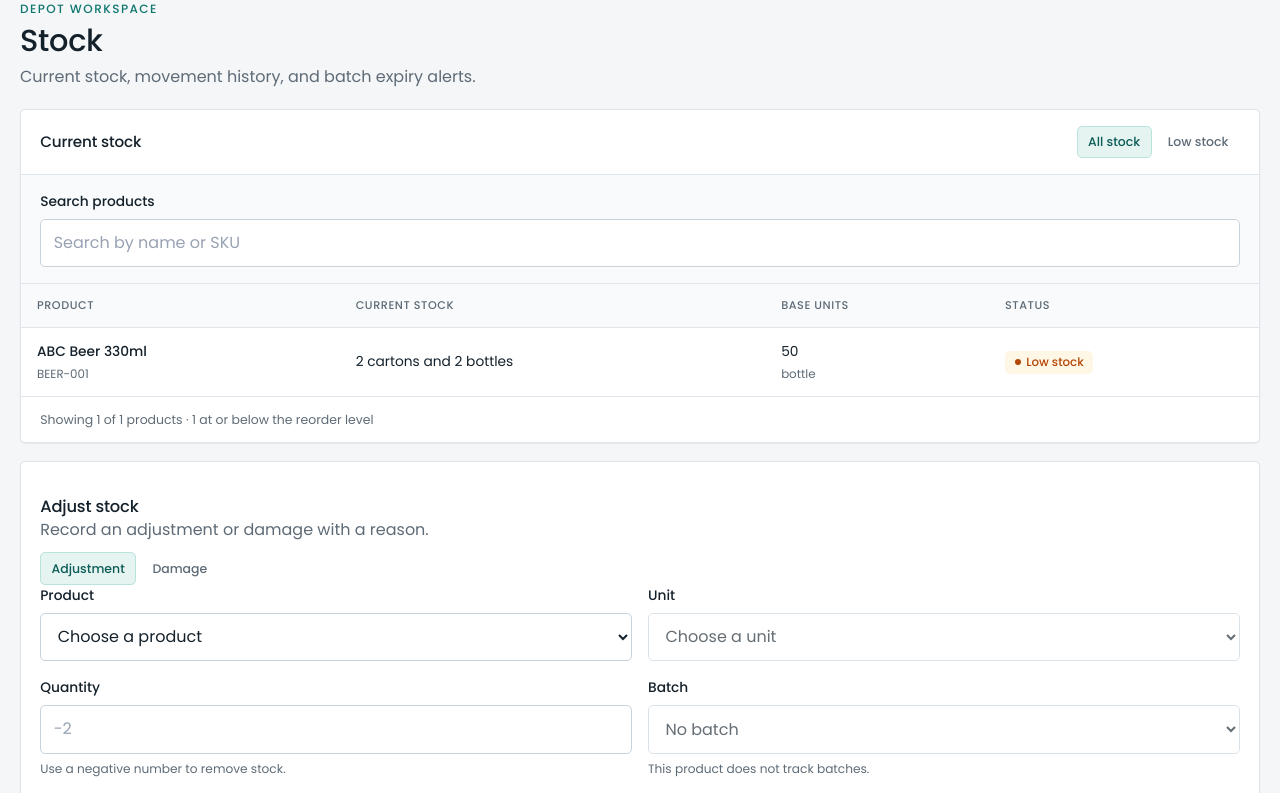
it: StockManager role-based screens › shows the API message when a movement would make stock negative
Select "ABC Beer 330ml (BEER-001)" in the dropdown labelled "Product" at coordinates (336, 637), box [40,612,632,661]
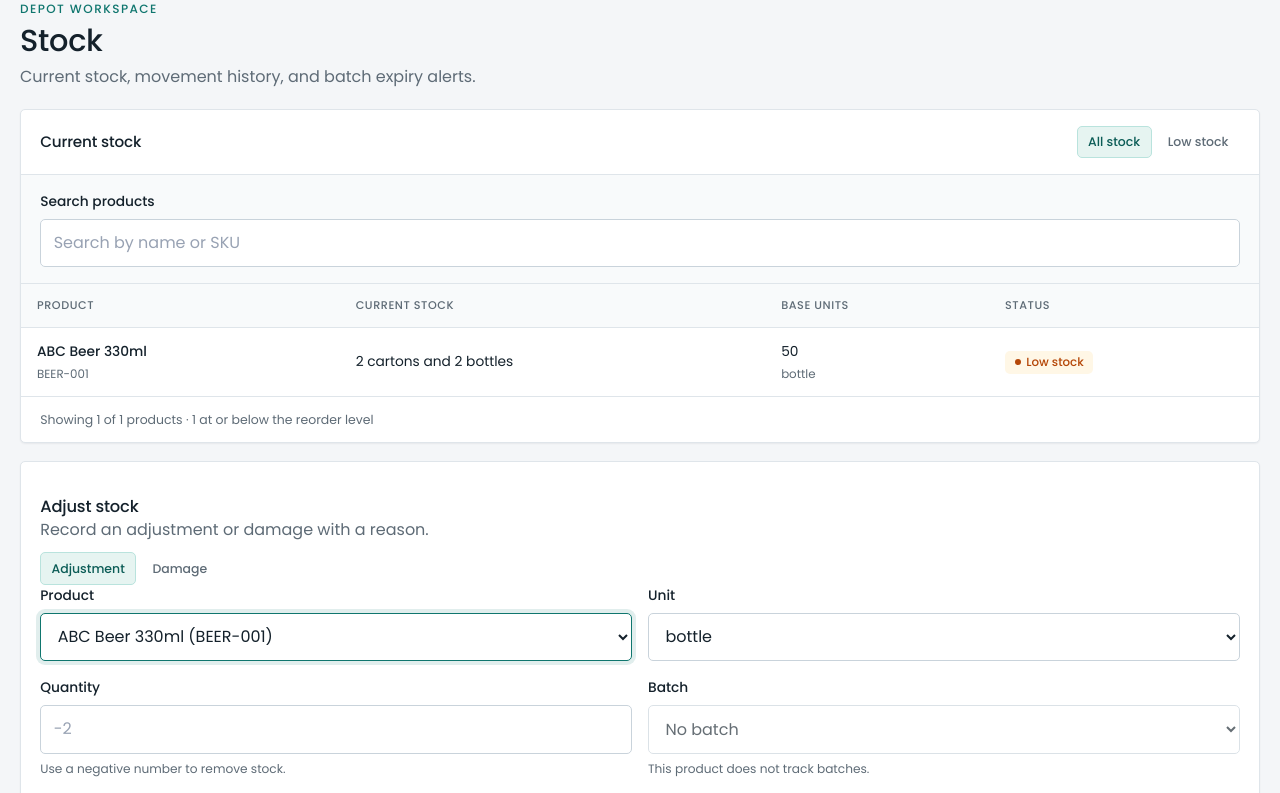
Select "bottle" in the dropdown labelled "Unit" at coordinates (944, 637), box [648,612,1240,661]
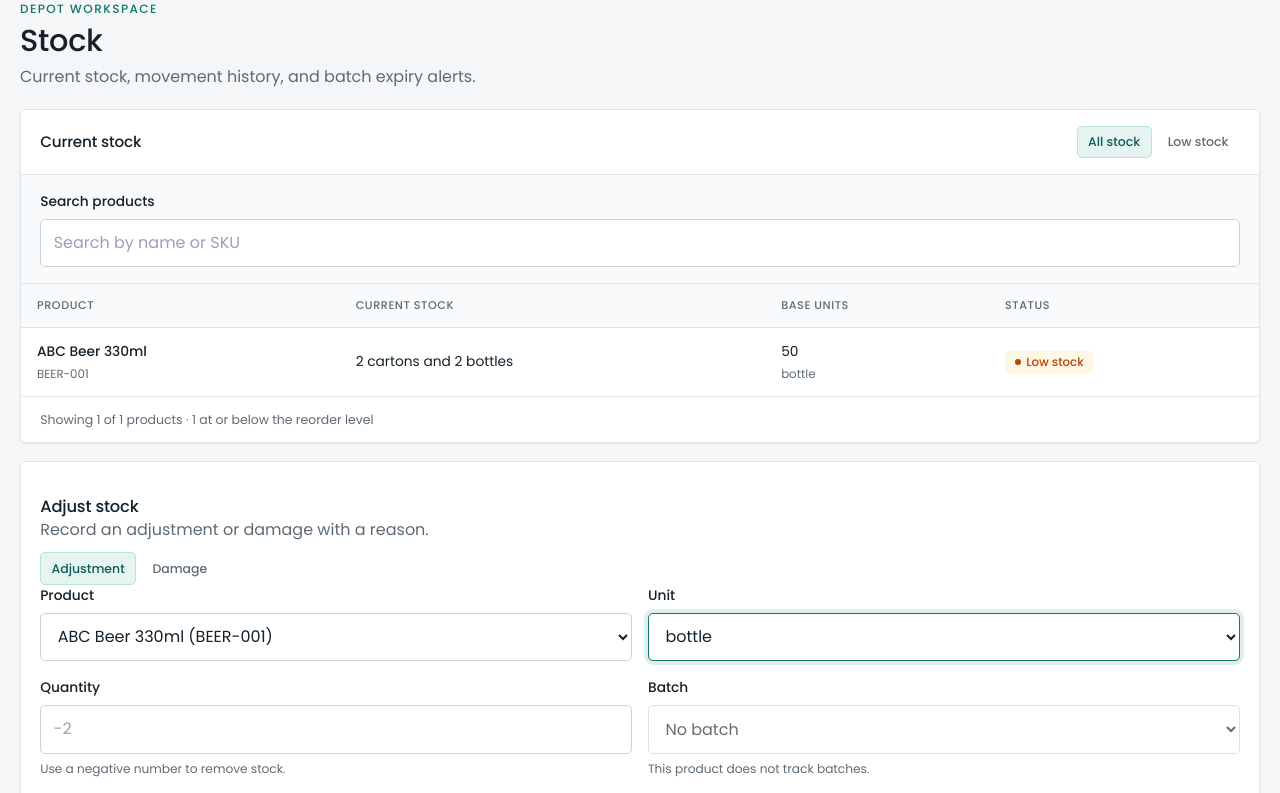
Type "-20" into the field labelled "Quantity" at coordinates (336, 729), box [40,705,632,754]
(page scrolled)
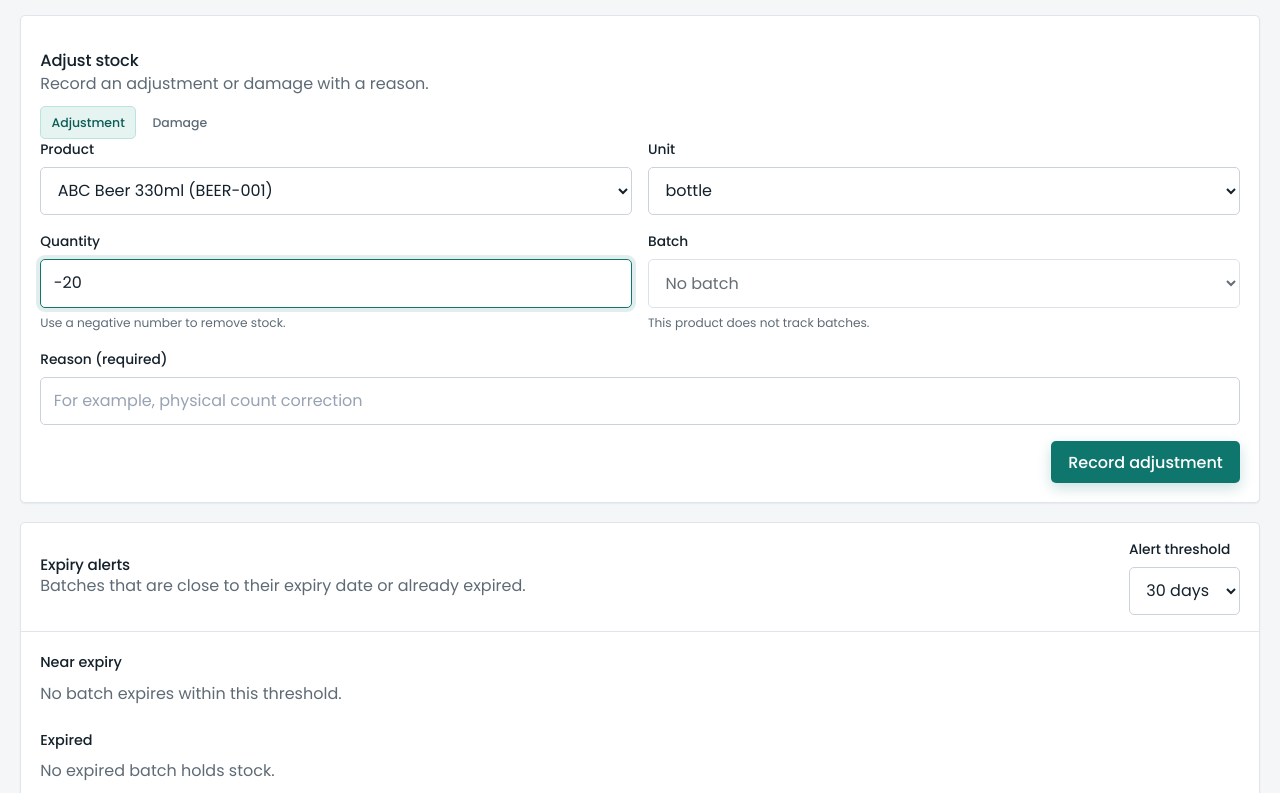
Type "Physical count correction" into the field labelled "Reason (required)" at coordinates (640, 401), box [40,377,1240,425]
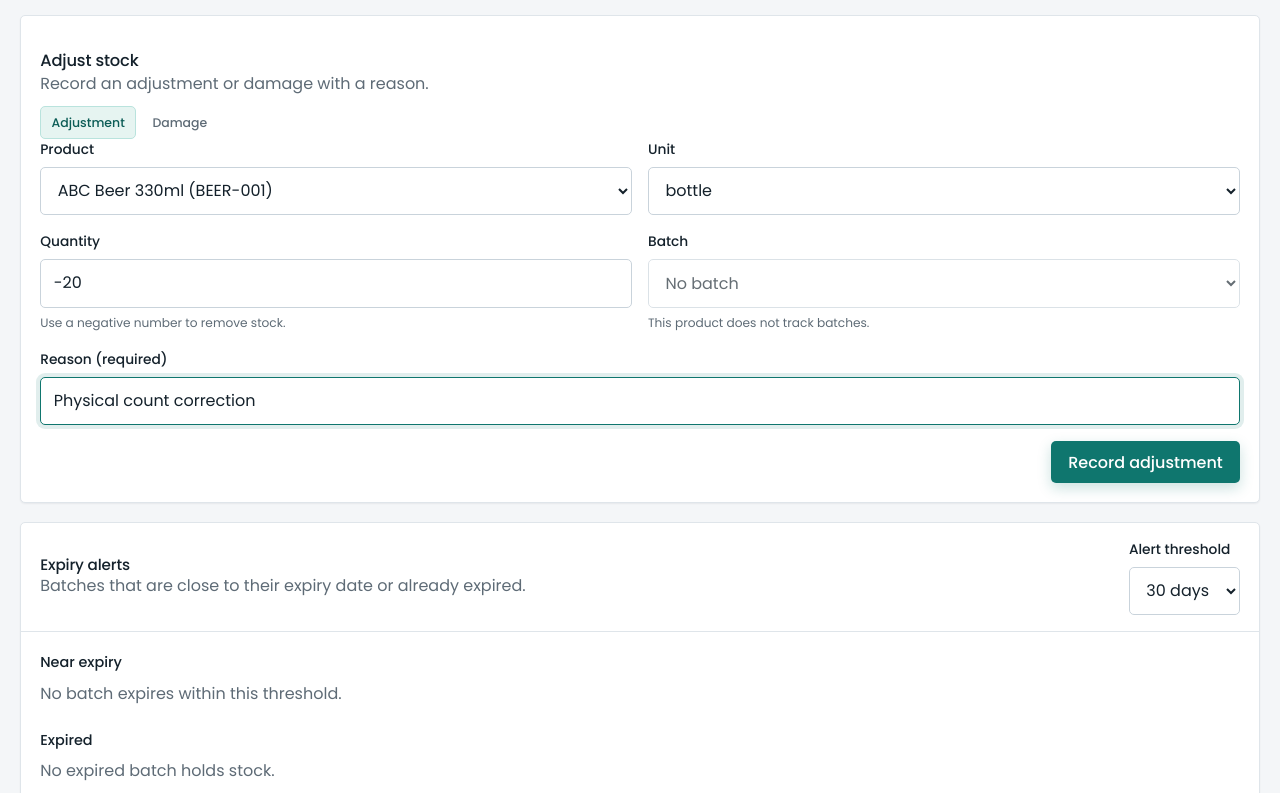
Click the button "Record adjustment" at coordinates (1146, 462), box [1051,441,1240,483]
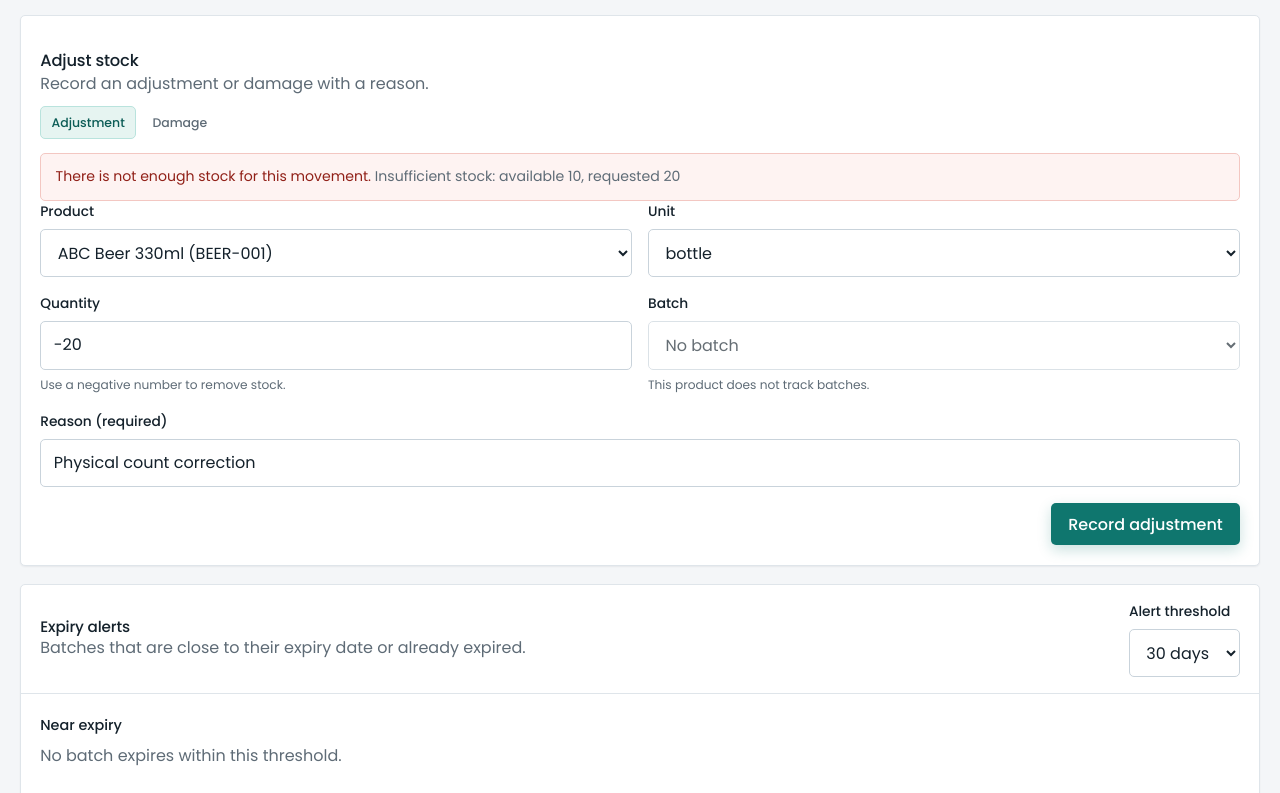
Check: the text "There is not enough stock for this movement." is shown, box [56,166,371,186]
Check: the text "Insufficient stock: available 10, requested 20" is shown, box [371,166,680,186]
